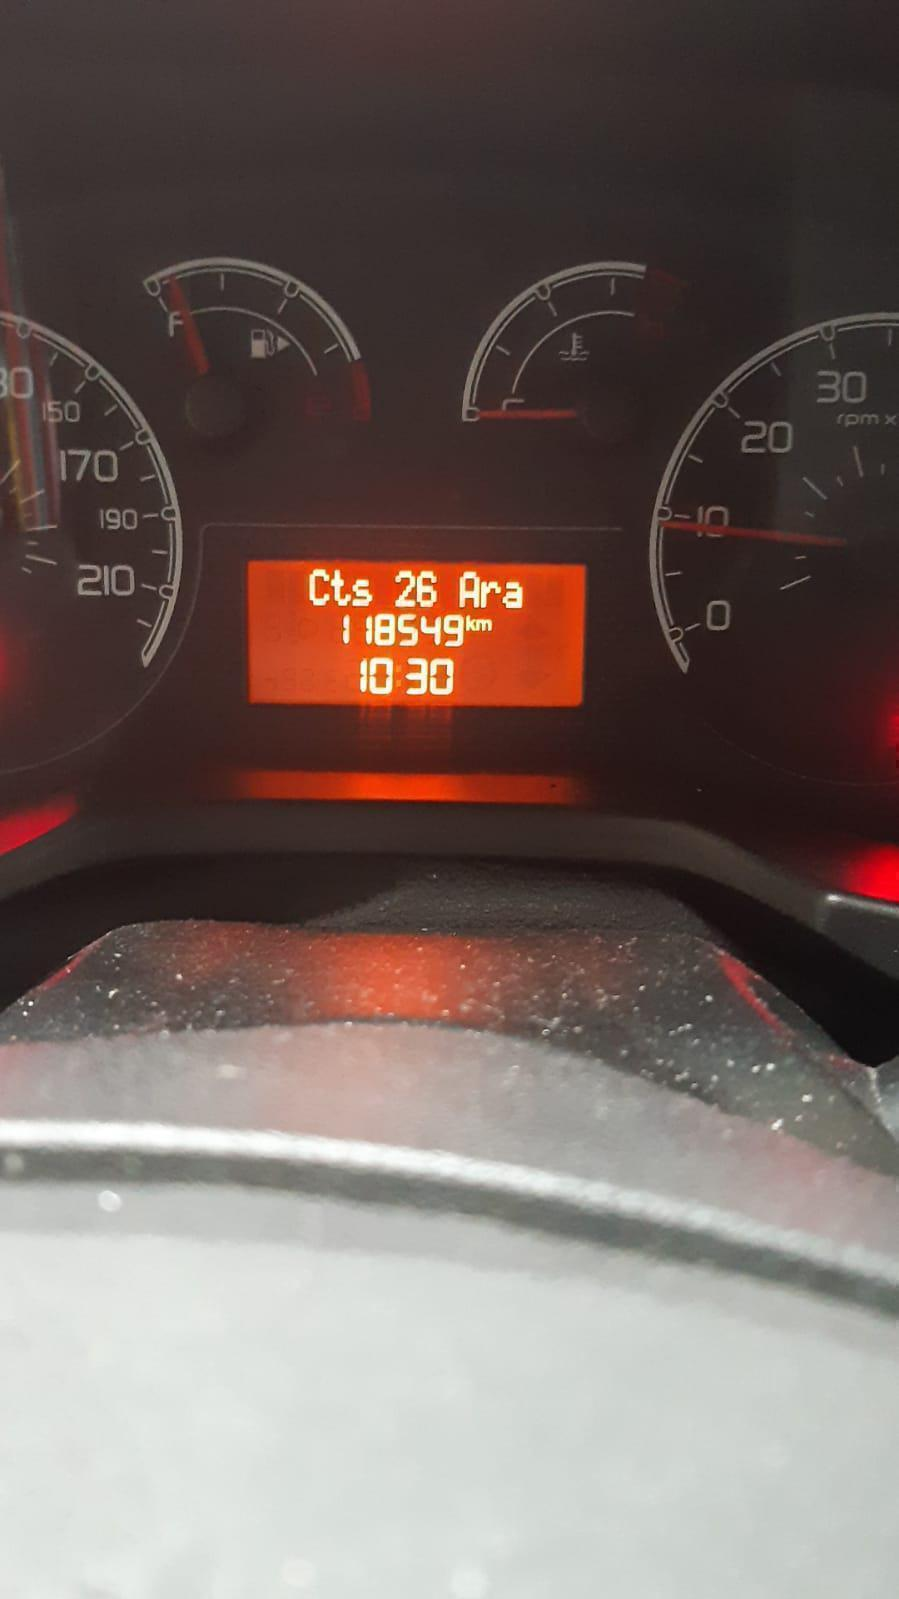0: (369, 656, 393, 695), (430, 656, 454, 695)
1: (359, 655, 368, 694), (342, 614, 352, 647), (364, 613, 373, 645)
2: (394, 570, 416, 607)
3: (406, 657, 427, 695)
4: (420, 613, 441, 646)
5: (397, 612, 418, 647)
6: (416, 569, 440, 610)
8: (374, 612, 395, 647)
9: (443, 613, 463, 647)
X: (308, 566, 331, 607), (457, 569, 479, 608), (331, 566, 351, 607), (351, 575, 373, 607), (480, 578, 501, 608), (502, 581, 522, 610), (475, 617, 492, 631), (465, 614, 476, 631)
odometer: (239, 550, 594, 713)
